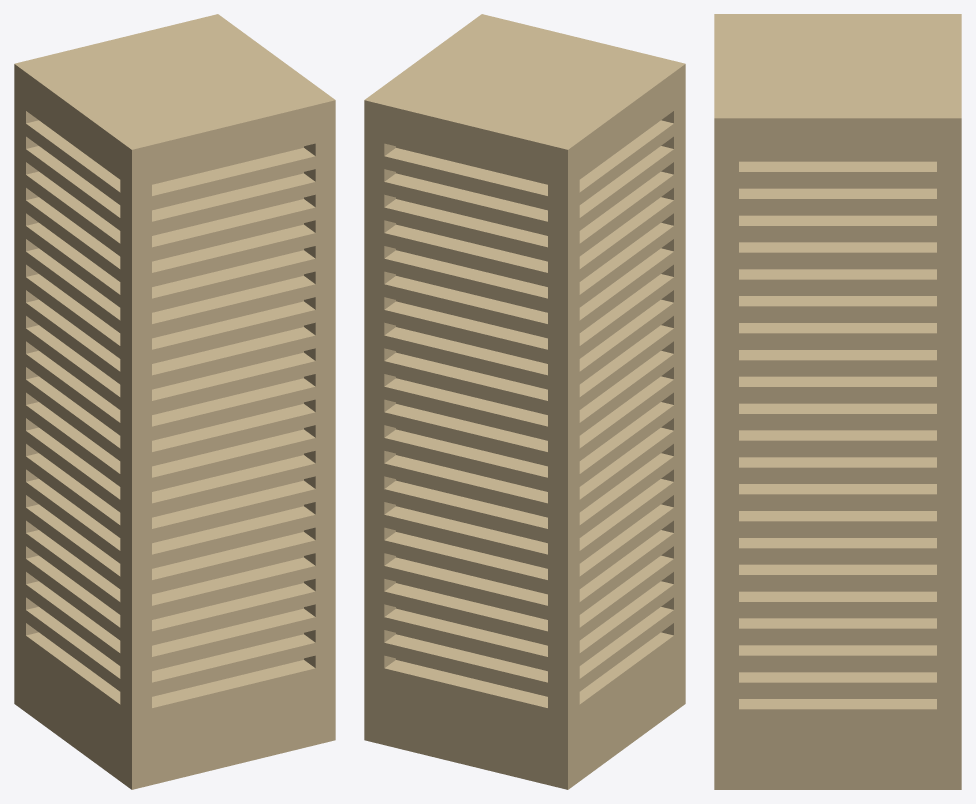
File: SM_Edificio03.fbx
The picture shows the model from 3 angles, left to right: view 1: azimuth 30°, elevation 25°; view 2: azimuth 150°, elevation 25°; view 3: azimuth 270°, elevation 25°; orthographic projection. The views are drawn at different scales.
Parts seen in each view (by area): view 1: Cube_1; view 2: Cube_1; view 3: Cube_1.
Boxes of the visible parts, bbox=[...] form: Cube_1: bbox=[14, 14, 335, 789]; Cube_1: bbox=[364, 14, 685, 789]; Cube_1: bbox=[714, 14, 961, 789].
Bounding box in the file's own units: 200 × 600 × 200.
